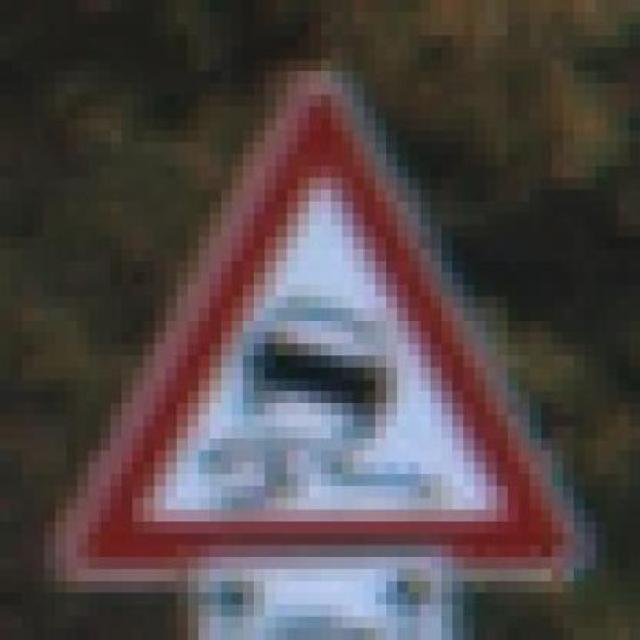Slippery Road Ahead: (51, 60, 592, 594)
